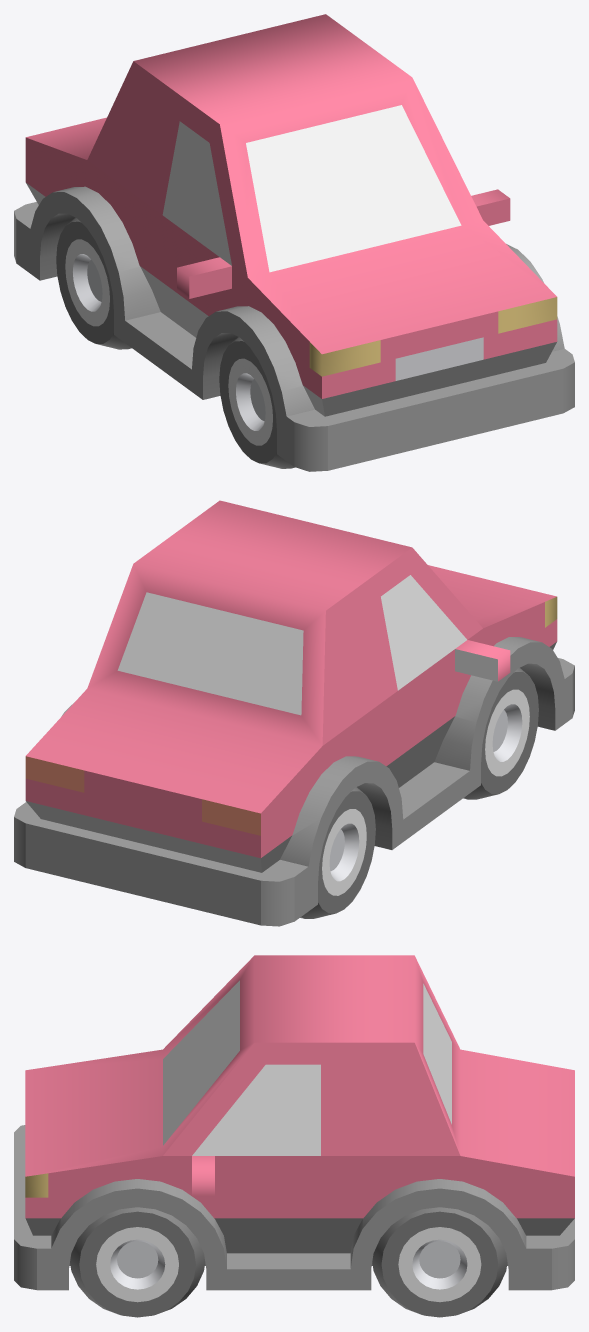
File: car.glb
The picture shows the model from 3 angles, top to bottom: view 1: azimuth 30°, elevation 25°; view 2: azimuth 150°, elevation 25°; view 3: azimuth 270°, elevation 25°; orthographic projection. The views are drawn at different scales.
Visible parts, largest first — view 1: body, wheel_backRight, wheel_frontRight; view 2: body, wheel_frontRight, wheel_backRight; view 3: body, wheel_backLeft, wheel_frontLeft.
Boxes of the visible parts, <box> form: body: <box>14,14,574,471</box>; wheel_backRight: <box>56,217,131,349</box>; wheel_frontRight: <box>219,337,295,468</box>; body: <box>14,500,574,926</box>; wheel_frontRight: <box>463,667,538,799</box>; wheel_backRight: <box>300,787,375,918</box>; body: <box>14,955,574,1290</box>; wheel_backLeft: <box>372,1207,507,1317</box>; wheel_frontLeft: <box>70,1207,205,1317</box>.
Size of the model in its own units: 15 by 13 by 24.5.
